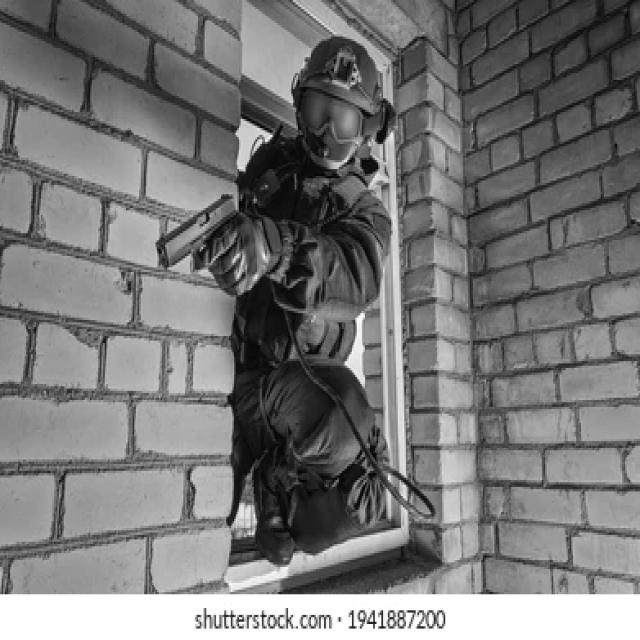soldier: (153, 36, 396, 576)
